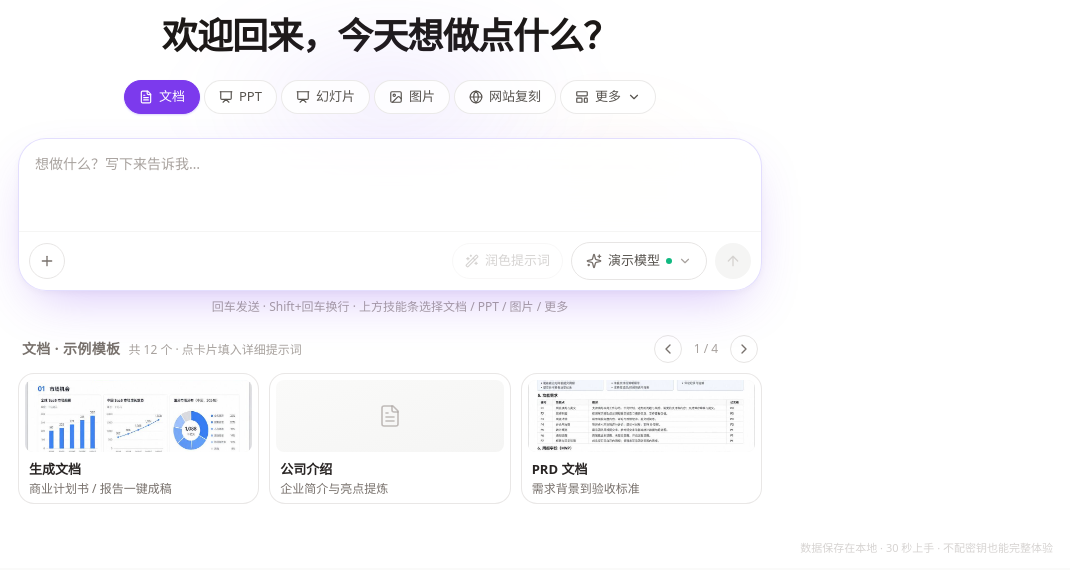
Scenario: ChatPanel 空态 › 图片技能模板卡显示真实 AI 成品图（d-* 图库）
What coordinates should you click on to do the following:
click the tab "图片"
I would click on:
 (412, 97)
Its box is [374,80,450,114].
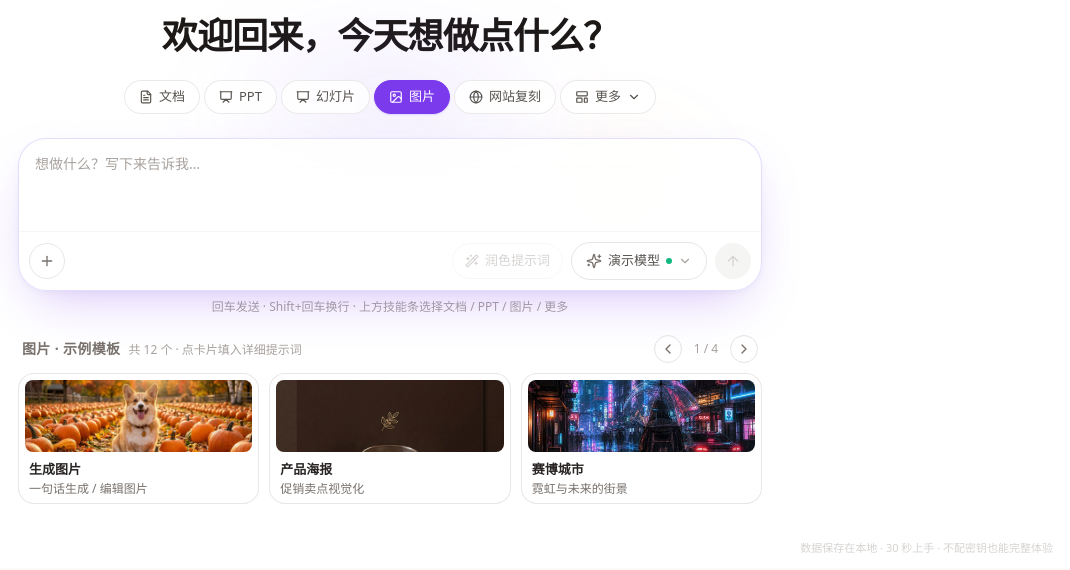
expect the 1st picture is shown: met, box [25,380,252,452]
expect the heading "图片 · 示例模板" is shown: met, box [22,338,120,358]
